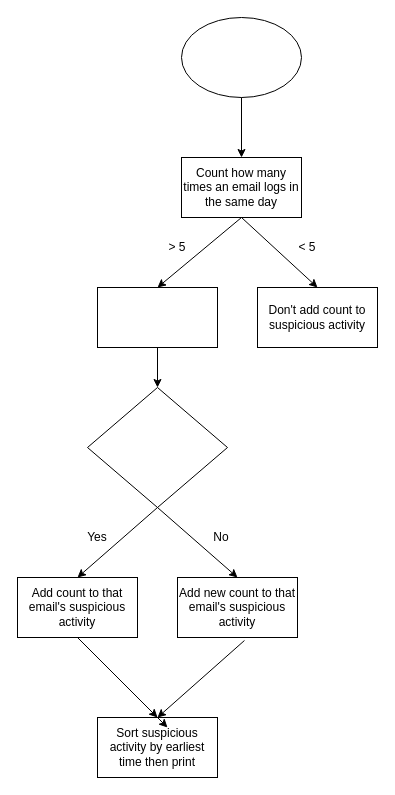
Image size: 395x795. Some labels were removed from this diagram. Here are the shapes that lost their labels. From the top down, the centre of each, then its label:
At point (241, 57): "Suspicious Activity".
At point (157, 317): "Add count to total suspicious activity".
At point (157, 447): "Has the email had suspicious activity on another day?".
